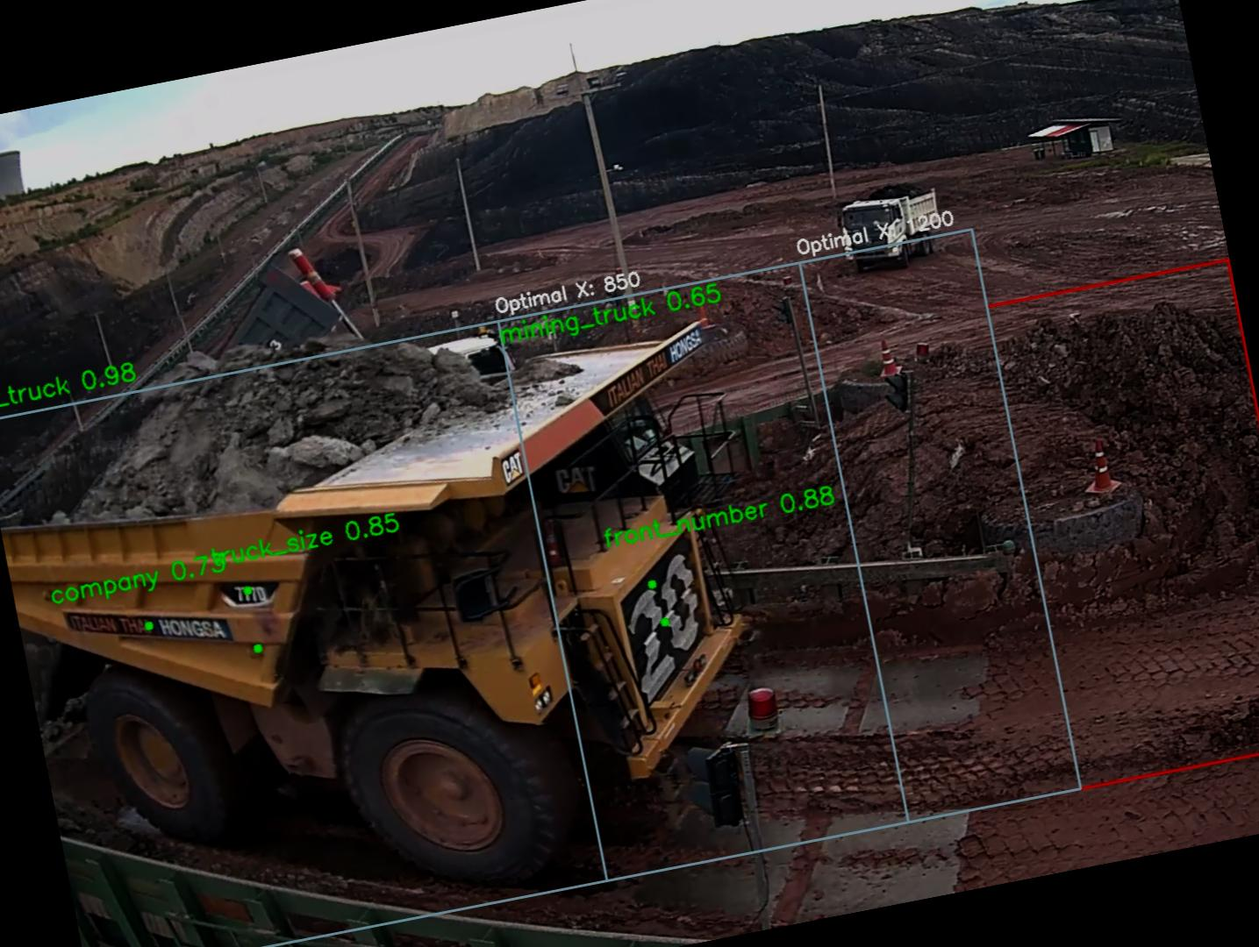company: (52, 572, 242, 676)
full_load: (98, 299, 453, 554)
mining_truck: (0, 224, 816, 947)
truck_size: (206, 555, 286, 620)
